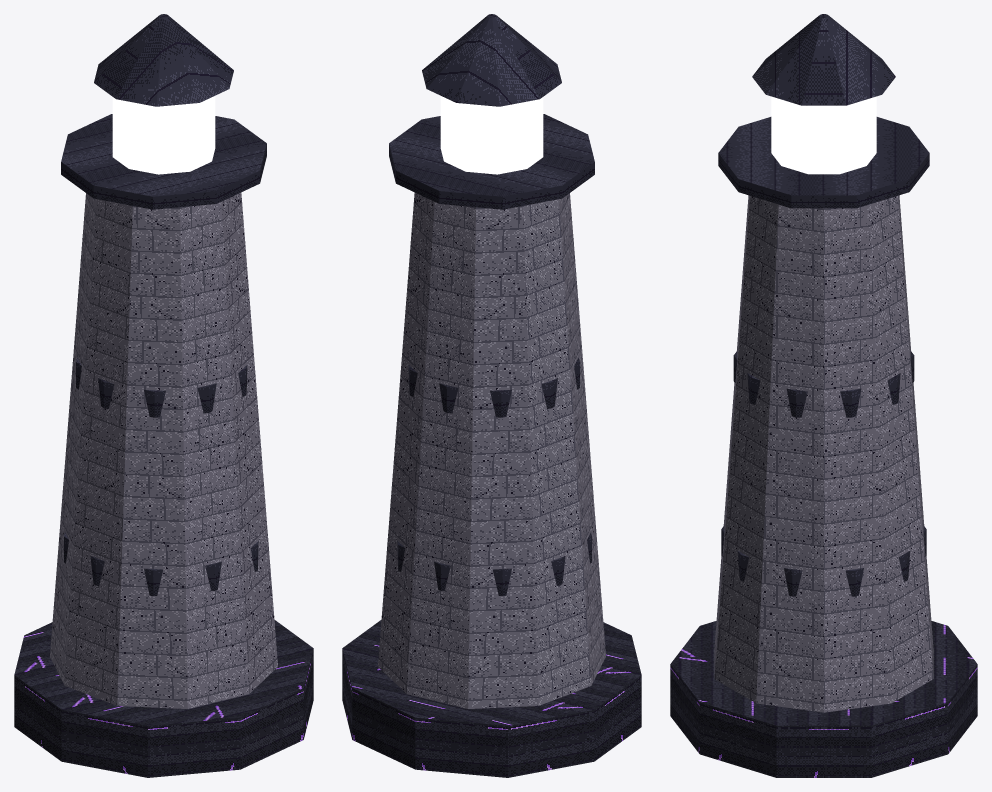
The model's file is rush_lighthouse.glb.
The picture shows the model from 3 angles, left to right: view 1: azimuth 30°, elevation 25°; view 2: azimuth 150°, elevation 25°; view 3: azimuth 270°, elevation 25°; orthographic projection.
Parts seen in each view (by area): view 1: Lighthouse, Glow; view 2: Lighthouse, Glow; view 3: Lighthouse, Glow.
Part boxes in pixels (x1,y1,x2,y2): Lighthouse: (14, 14, 313, 777); Glow: (112, 96, 215, 174); Lighthouse: (342, 14, 641, 777); Glow: (440, 96, 543, 174); Lighthouse: (670, 14, 977, 777); Glow: (771, 96, 876, 174).
Bounding box in the file's own units: 6.09 × 16.1 × 6.4.
4 materials, 3 textured.
